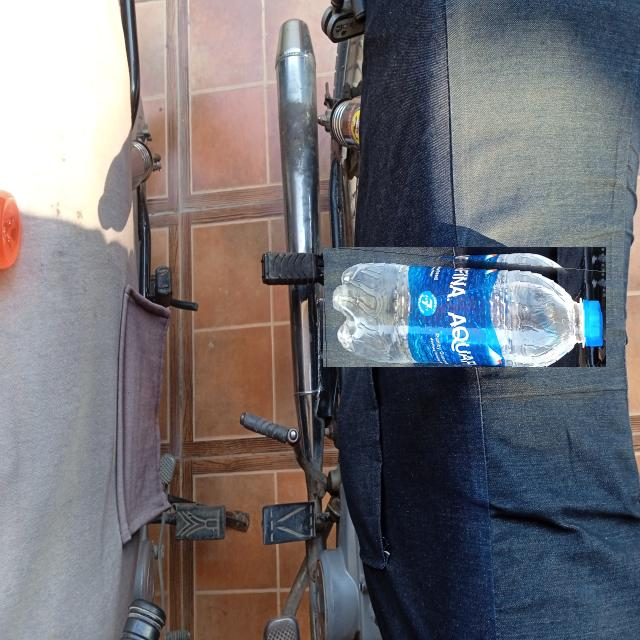Plastic: (322, 246, 606, 367)
